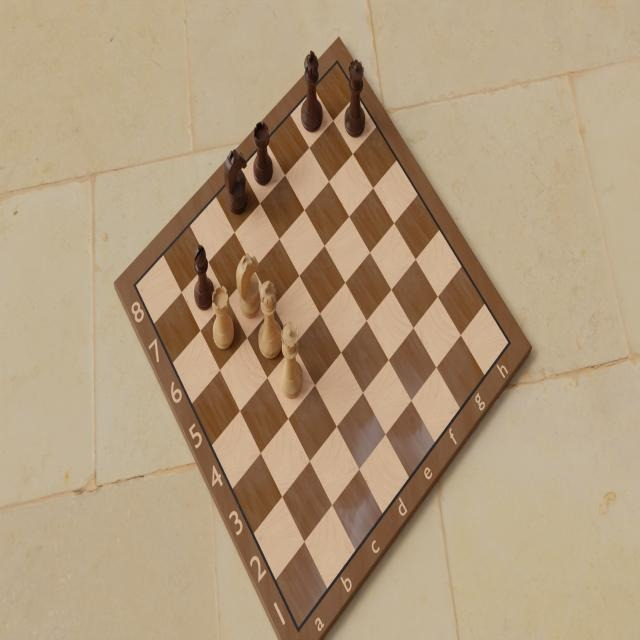black-bishop: (192, 239, 216, 310)
black-king: (296, 49, 326, 134)
black-knight: (221, 146, 251, 214)
black-queen: (343, 56, 368, 139)
black-rook: (251, 120, 275, 188)
white-king: (256, 274, 284, 361)
white-knight: (234, 248, 261, 326)
white-queen: (279, 322, 305, 402)
white-rook: (210, 281, 238, 355)
